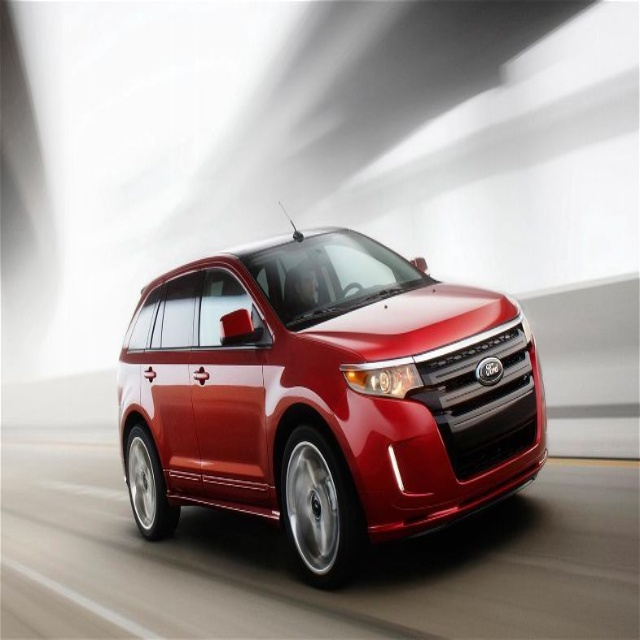Car: (117, 224, 547, 591)
